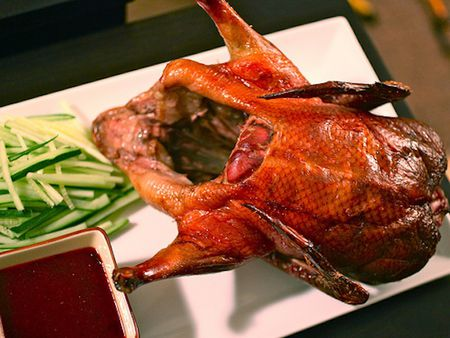peking_duck: (85, 1, 450, 312)
